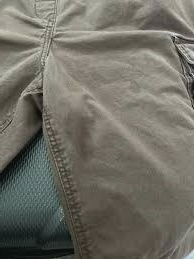oil: (68, 98, 97, 155), (130, 77, 139, 90)
